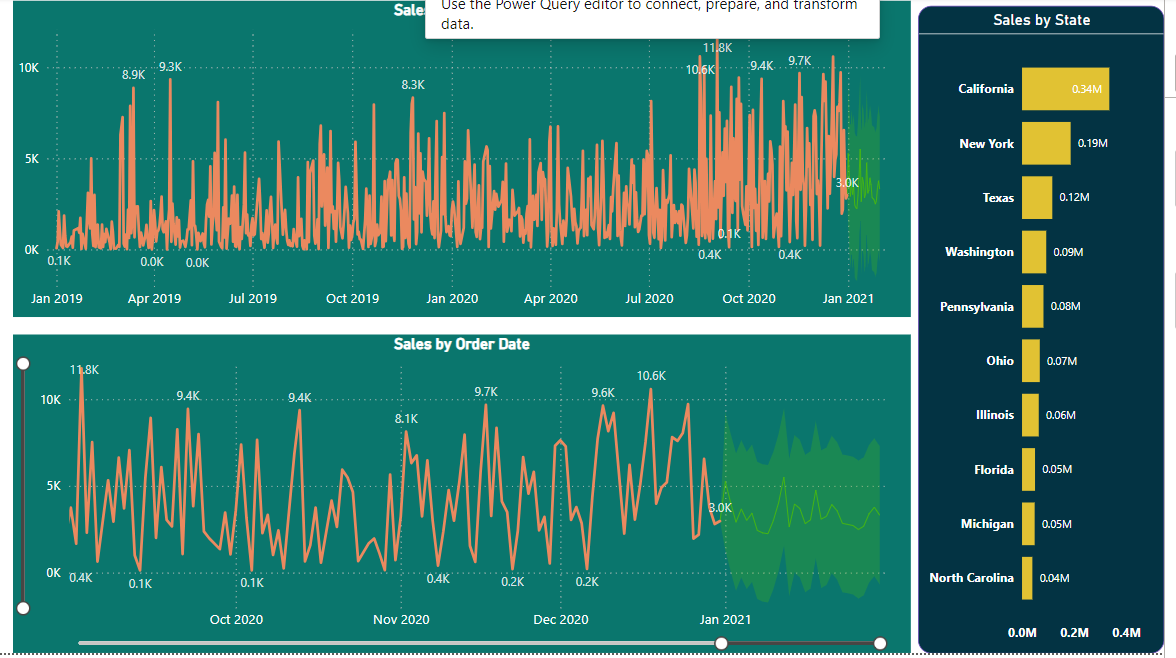

Layout of this report page (visuals, bound fields, positions):
{"tool":"powerbi","page":{"name":"Forecast Analysis","canvas":[1280,720],"ordinal":1},"visuals":[{"type":"lineChart","title":" Sales by Order Date","fields":{"Y":["Sum(SuperStore_Sales_Dataset.Sales)"],"Category":["SuperStore_Sales_Dataset.Order Date"]},"box":[15.9,3.7,985.6,347.3],"z":0},{"type":"lineChart","title":"Sales by Order Date","fields":{"Y":["Sum(SuperStore_Sales_Dataset.Sales)"],"Category":["SuperStore_Sales_Dataset.Order Date"]},"box":[15.9,370.5,985.6,349.7],"z":1000},{"type":"clusteredBarChart","title":" Sales by State","fields":{"Y":["Sum(SuperStore_Sales_Dataset.Sales)"],"Category":["SuperStore_Sales_Dataset.State"]},"box":[1010,9.6,270.3,710.8],"z":2000}]}

Visuals, with their boxes in screenshot pixels (x1, y1, x2, y2):
" Sales by Order Date" lineChart: (left=20, top=3, right=909, bottom=317)
"Sales by Order Date" lineChart: (left=20, top=334, right=909, bottom=650)
" Sales by State" clusteredBarChart: (left=917, top=9, right=1161, bottom=650)
